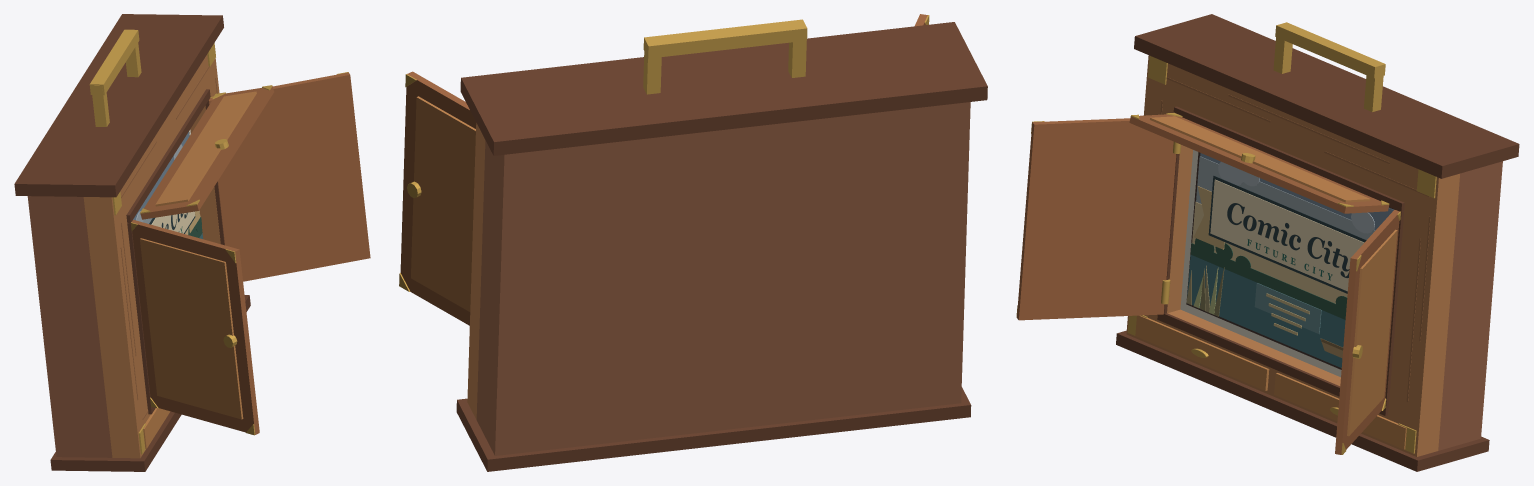
The model's file is kamishibai.glb.
3 views of the same model, side by side, from view 1: azimuth 30°, elevation 25°; view 2: azimuth 150°, elevation 25°; view 3: azimuth 270°, elevation 25° (orthographic). The views are drawn at different scales.
Parts seen in each view (by area): view 1: body, door-right, door-left, door-top; view 2: body, door-right; view 3: body, door-left, door-right, door-top, title.
Boxes of the visible parts, <box> form: body: <box>14,14,250,471</box>; door-right: <box>208,72,370,281</box>; door-left: <box>131,220,259,435</box>; door-top: <box>140,85,273,219</box>; body: <box>456,19,987,471</box>; door-right: <box>399,71,476,325</box>; body: <box>1116,14,1519,471</box>; door-left: <box>1016,118,1176,320</box>; door-right: <box>1335,209,1400,454</box>; door-top: <box>1129,112,1389,213</box>; title: <box>1227,203,1349,280</box>.
Bounding box in the file's own units: 3.31 × 2.52 × 3.31.
26 materials, 1 textured.
